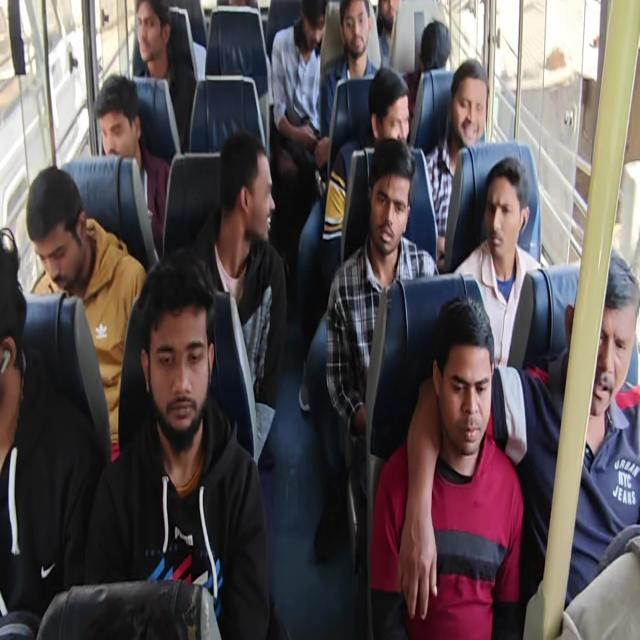person: (2, 1, 638, 638), (404, 248, 640, 610), (84, 250, 272, 638), (369, 295, 524, 638), (522, 249, 639, 609), (0, 227, 103, 634), (298, 65, 412, 412), (325, 138, 440, 477), (25, 165, 148, 461), (188, 130, 287, 467), (452, 155, 546, 373), (321, 66, 411, 278), (93, 73, 170, 259), (424, 58, 490, 262), (270, 1, 327, 182), (131, 0, 197, 152), (319, 0, 380, 141), (375, 0, 400, 68)
